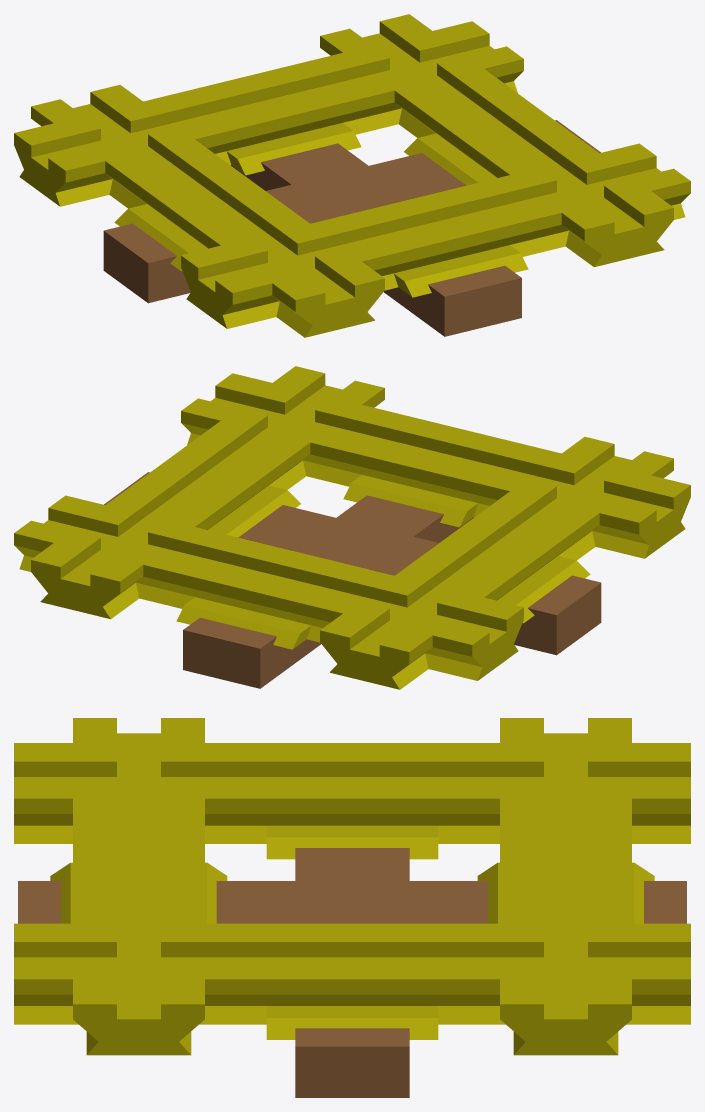
Rendered from golden_cross_track.fbx.
The picture shows the model from 3 angles, top to bottom: view 1: azimuth 30°, elevation 25°; view 2: azimuth 150°, elevation 25°; view 3: azimuth 270°, elevation 25°; orthographic projection. The views are drawn at different scales.
Parts seen in each view (by area): view 1: Cube.014; view 2: Cube.014; view 3: Cube.014.
Part boxes in pixels (bbox=[...]): Cube.014: bbox=[14, 14, 690, 337]; Cube.014: bbox=[14, 366, 690, 689]; Cube.014: bbox=[14, 718, 690, 1097].
Size of the model in its own units: 200 by 31.09 by 200.
